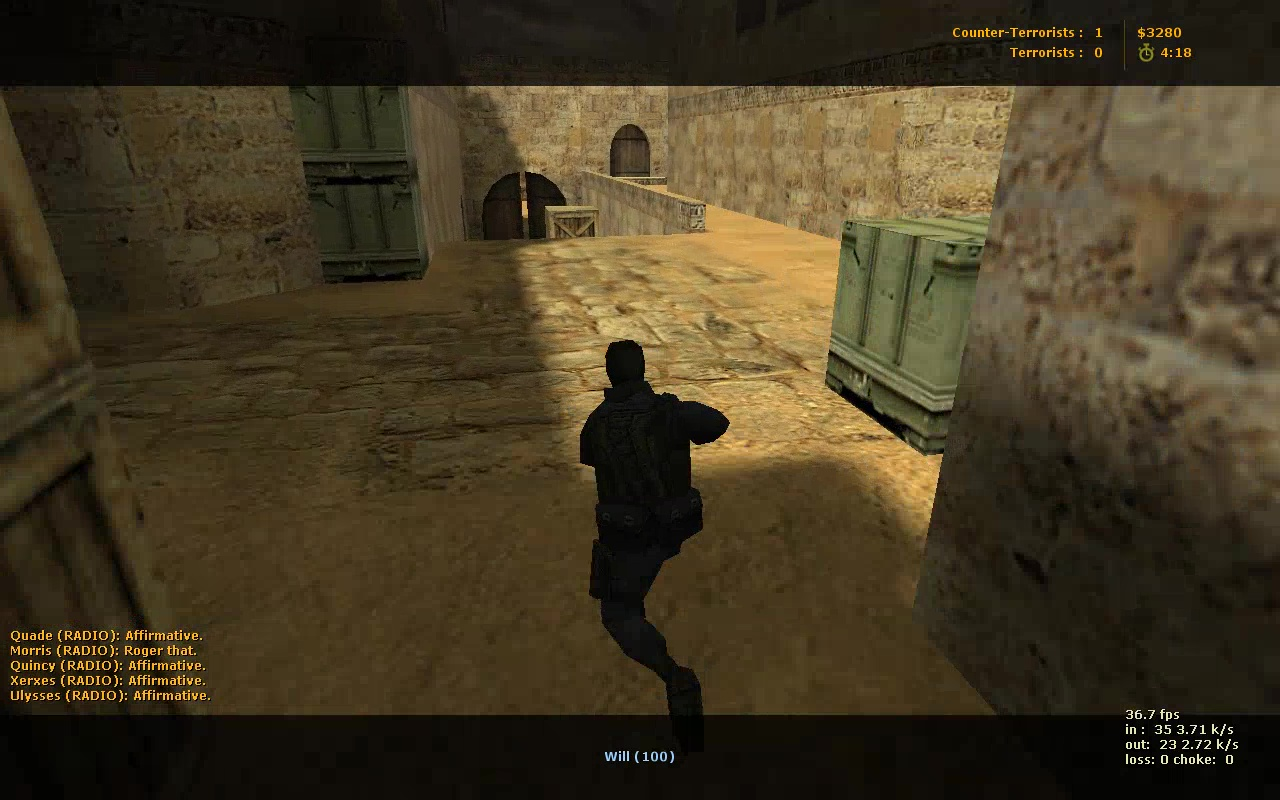ct: (574, 340, 731, 724)
